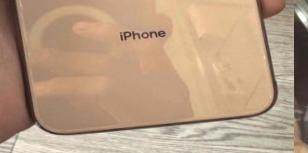scratch: (192, 28, 217, 52), (296, 0, 308, 14)
